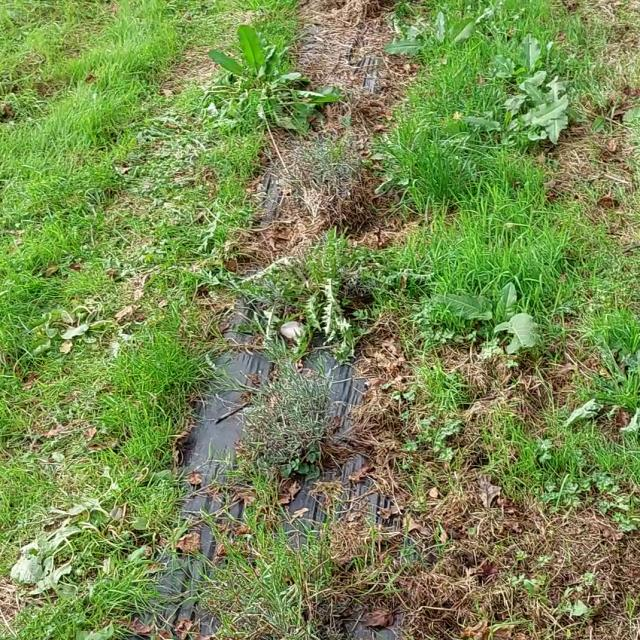organic waste: (13, 476, 164, 620), (193, 19, 343, 145), (441, 263, 551, 370), (35, 272, 143, 368), (396, 0, 496, 82), (512, 73, 603, 159), (477, 24, 568, 90)
